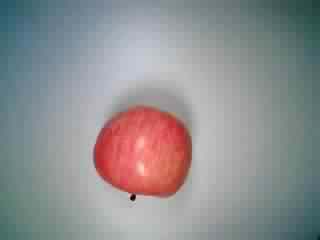apple: (92, 104, 197, 206)
